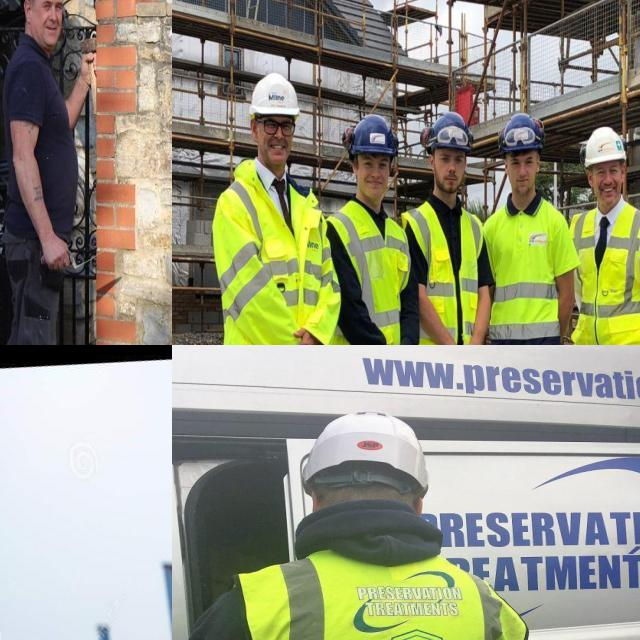No_Ear-Protection: (19, 0, 74, 55)
face_nomask: (258, 108, 294, 170), (432, 147, 469, 197), (355, 156, 393, 200), (592, 162, 628, 206), (505, 152, 540, 194)
glasses: (260, 113, 296, 141), (435, 120, 468, 149), (502, 124, 538, 146)
hand_noglove: (293, 327, 324, 345)
head_helmet: (298, 412, 429, 494), (250, 72, 301, 120), (348, 114, 398, 159), (425, 108, 475, 151), (585, 124, 626, 170), (499, 113, 545, 151)
person: (192, 466, 505, 640), (218, 71, 329, 345), (487, 116, 581, 345), (409, 110, 498, 345), (329, 113, 409, 345), (577, 122, 640, 345)
vest: (214, 550, 515, 640), (213, 156, 332, 345), (482, 193, 569, 345), (402, 195, 485, 345), (325, 208, 411, 345), (567, 198, 640, 345)
